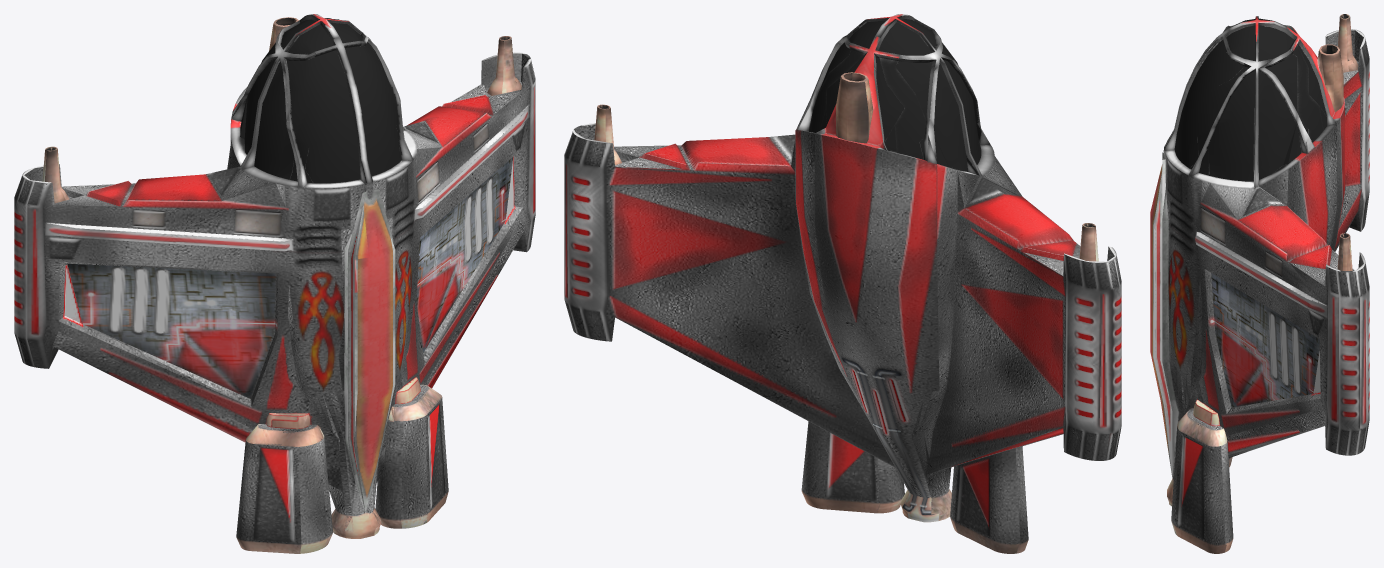
The model's file is ship2.fbx.
3 renders of one model, left to right at view 1: azimuth 30°, elevation 25°; view 2: azimuth 150°, elevation 25°; view 3: azimuth 270°, elevation 25°, orthographic. The views are drawn at different scales.
Visible parts, largest first — view 1: polySurface5; view 2: polySurface5; view 3: polySurface5.
Boxes of the visible parts, x1,y1,x2,y2 form: polySurface5: (14, 14, 535, 553); polySurface5: (564, 14, 1121, 553); polySurface5: (1150, 14, 1369, 553).
Size of the model in its own units: 42.95 by 15.94 by 38.9.
1 material, 1 textured.
